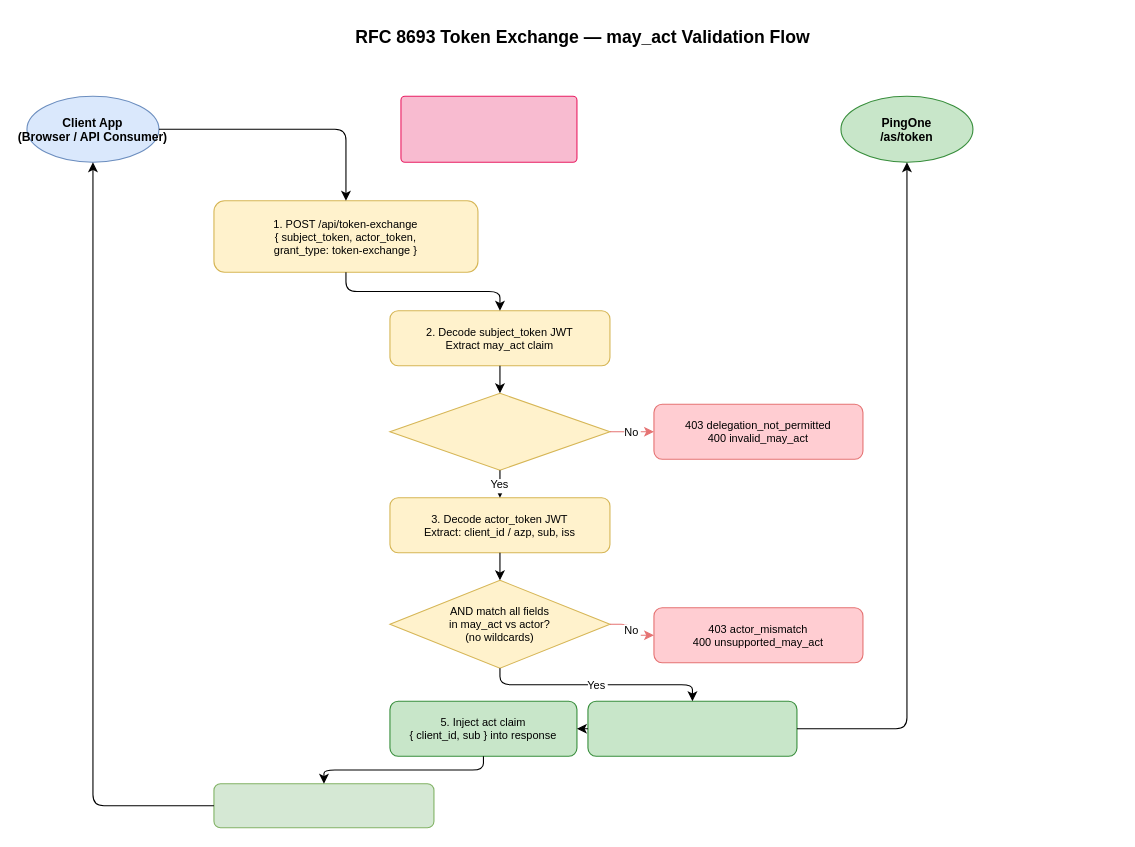
Some shapes in this 1135 by 847 pixel diagram are drawn without their labels. The shapes that lost their labels are listed below. From the top down, each one's centre as x and y in pixels, then its label:
At [488,128]: "api/token-exchange.js (Vercel / Express)".
At [499,431]: "may_act present and is plain object?".
At [692,728]: "4. Forward to PingOne /as/token with actor_token".
At [323,805]: "6. Return token + act to client".
